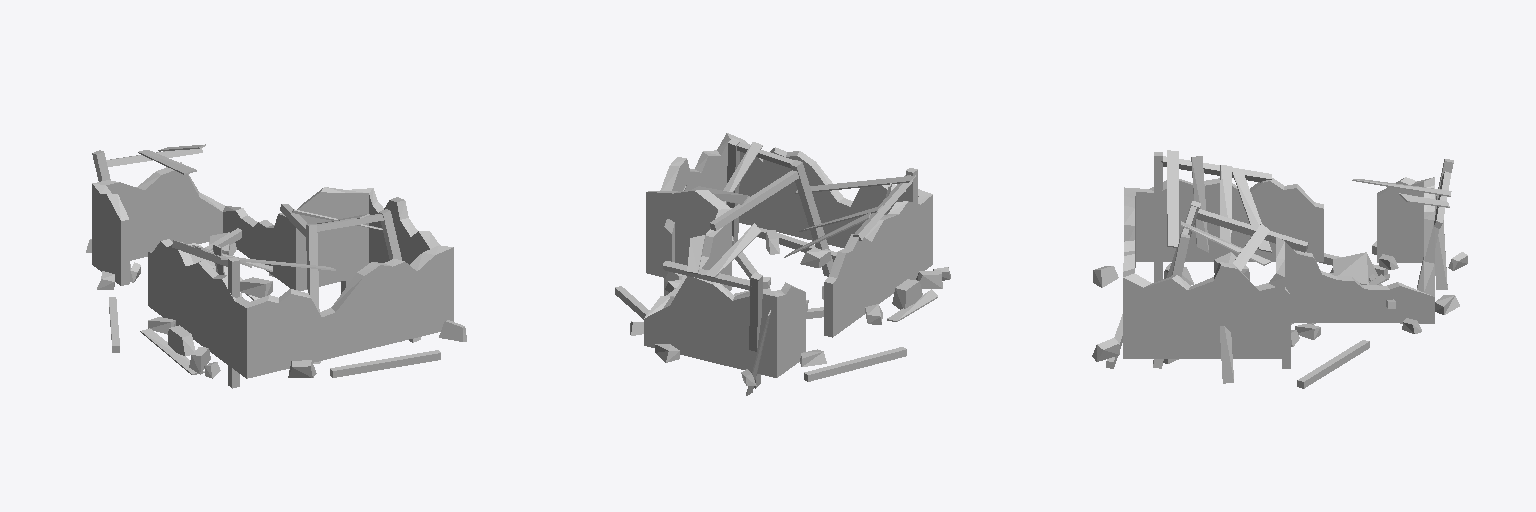
File: buildingdamaged.obj
3 views of the same model, side by side, from view 1: azimuth 30°, elevation 25°; view 2: azimuth 150°, elevation 25°; view 3: azimuth 270°, elevation 25° (orthographic).
Parts seen in each view (by area): view 1: Cube_Cube.003, Cube.028_Cube.005; view 2: Cube_Cube.003, Cube.028_Cube.005; view 3: Cube_Cube.003, Cube.028_Cube.005.
Boxes of the visible parts, x1=… form: Cube_Cube.003: x1=86, y1=162, x2=466, y2=378; Cube.028_Cube.005: x1=92, y1=144, x2=440, y2=388; Cube_Cube.003: x1=630, y1=133, x2=950, y2=385; Cube.028_Cube.005: x1=615, y1=138, x2=937, y2=395; Cube_Cube.003: x1=1092, y1=177, x2=1467, y2=361; Cube.028_Cube.005: x1=1106, y1=150, x2=1453, y2=388.
Size of the model in its own units: 7.41 by 3.27 by 8.55.